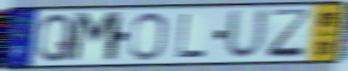L: (174, 12, 207, 59)
M: (68, 10, 125, 65)
O: (127, 11, 168, 62)
Q: (35, 12, 77, 64)
U: (223, 6, 271, 62)
Z: (266, 7, 315, 60)
